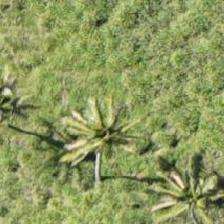coconut_tree: (44, 93, 134, 183), (0, 61, 51, 151), (170, 161, 223, 223)
